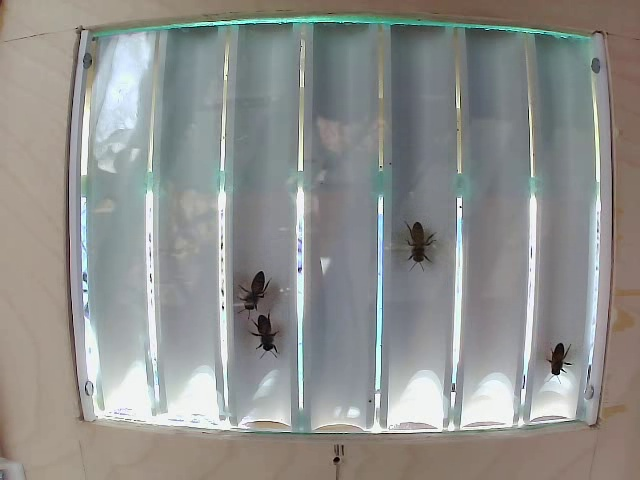bee: (252, 304, 297, 348), (239, 273, 267, 307), (399, 228, 429, 258)
